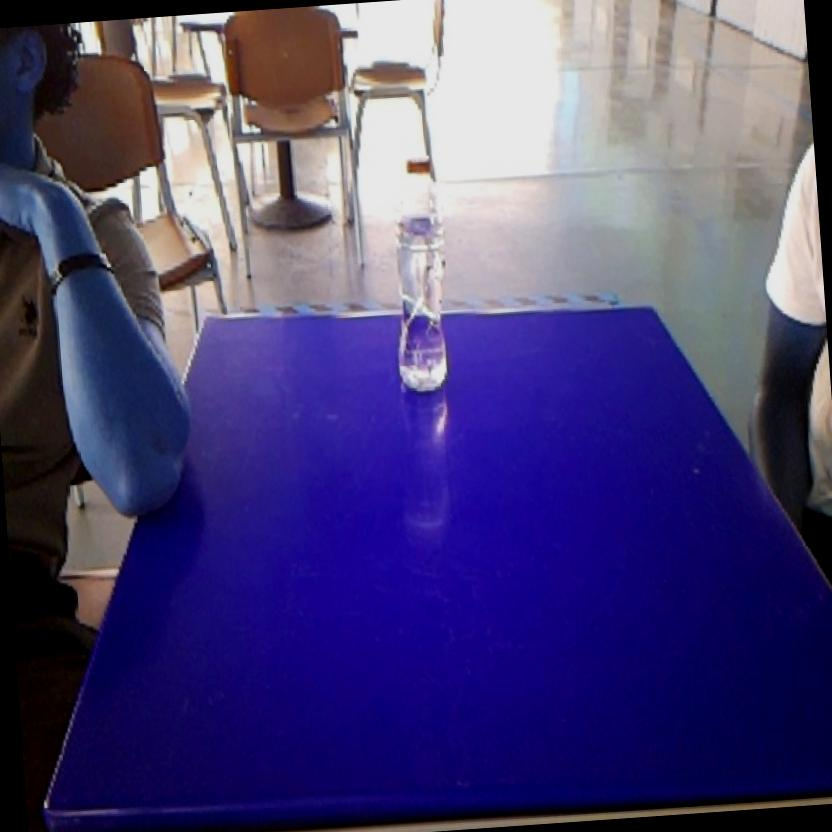no_label: (376, 146, 463, 404)
